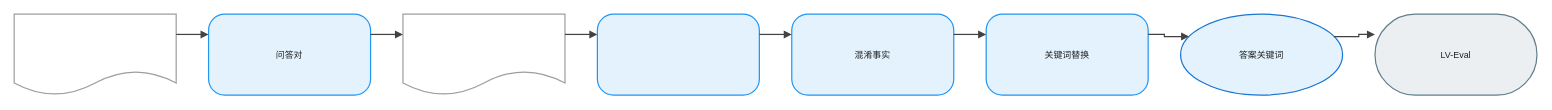
Image size: 1552x110. Some labels were removed from this diagram. Each missing label, with the centre of its shape:
"上下文混合" goes at pixel 678 54.
"公开QA" goes at pixel 94 54.
"长度层级" goes at pixel 483 54.
